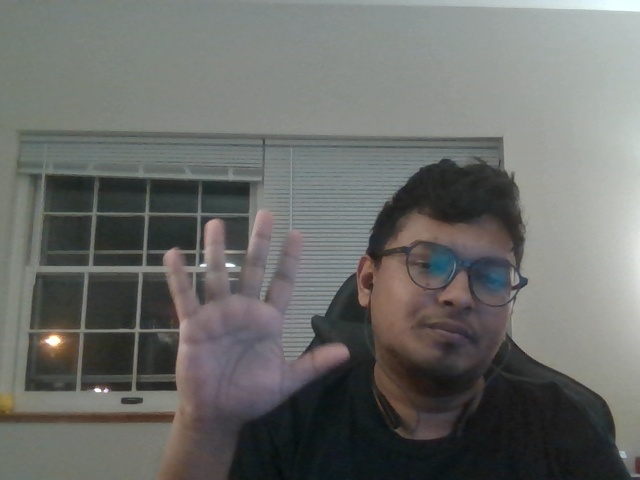hello: (147, 201, 356, 430)
